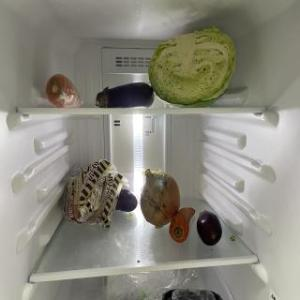cabbage: (148, 28, 236, 106)
carrot: (46, 74, 82, 109), (170, 205, 192, 240)
eggplant: (96, 82, 156, 108), (198, 209, 222, 248), (115, 188, 136, 210)
onion: (138, 170, 182, 226)
